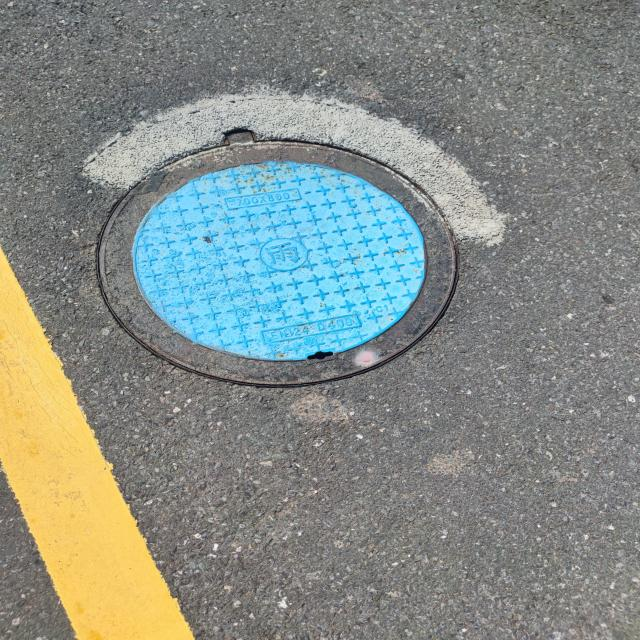Good: (89, 129, 466, 395)
